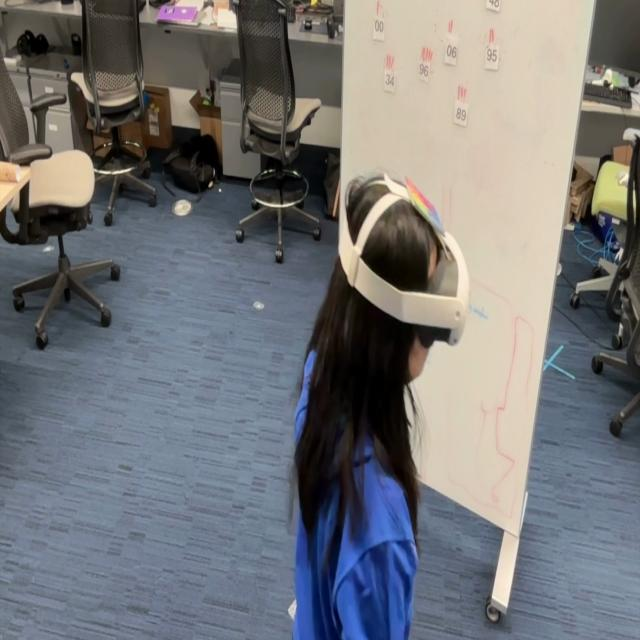Headset: (338, 172, 470, 346)
Marker: (401, 164, 452, 234)
